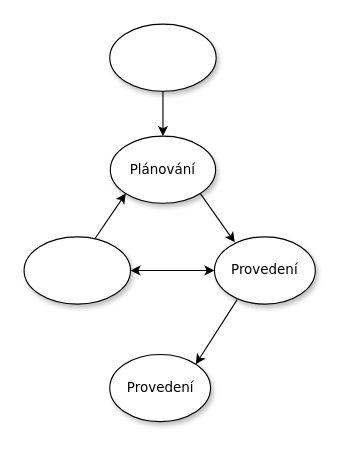
Some shapes in this 342 by 449 pixel diagram are drawn without their labels. The centre of each missing label's shape, as x and y in pixels:
Monitorování a řízení: the point at 77,271
Zahájení: the point at 163,58
